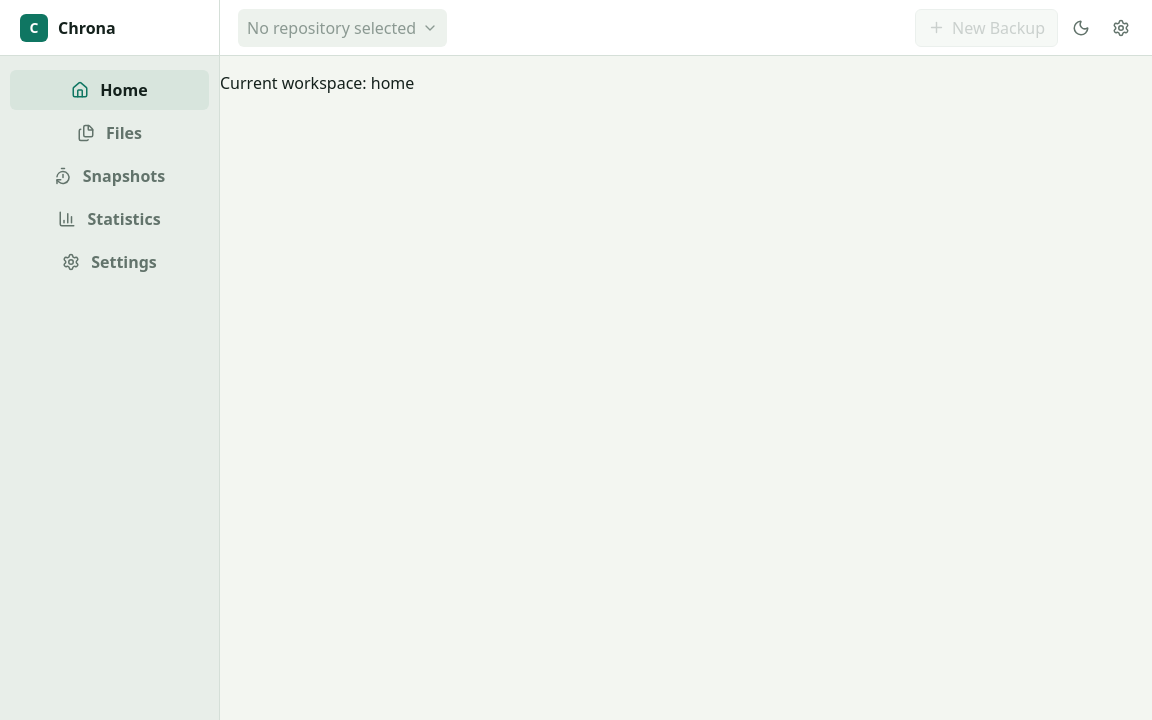
it: AppShell › changes the selected workspace and exposes it to compatibility content
What coordinates should you click on to do the following:
click the button "Files"
I would click on:
 (110, 133)
Its box is [10, 113, 209, 153].
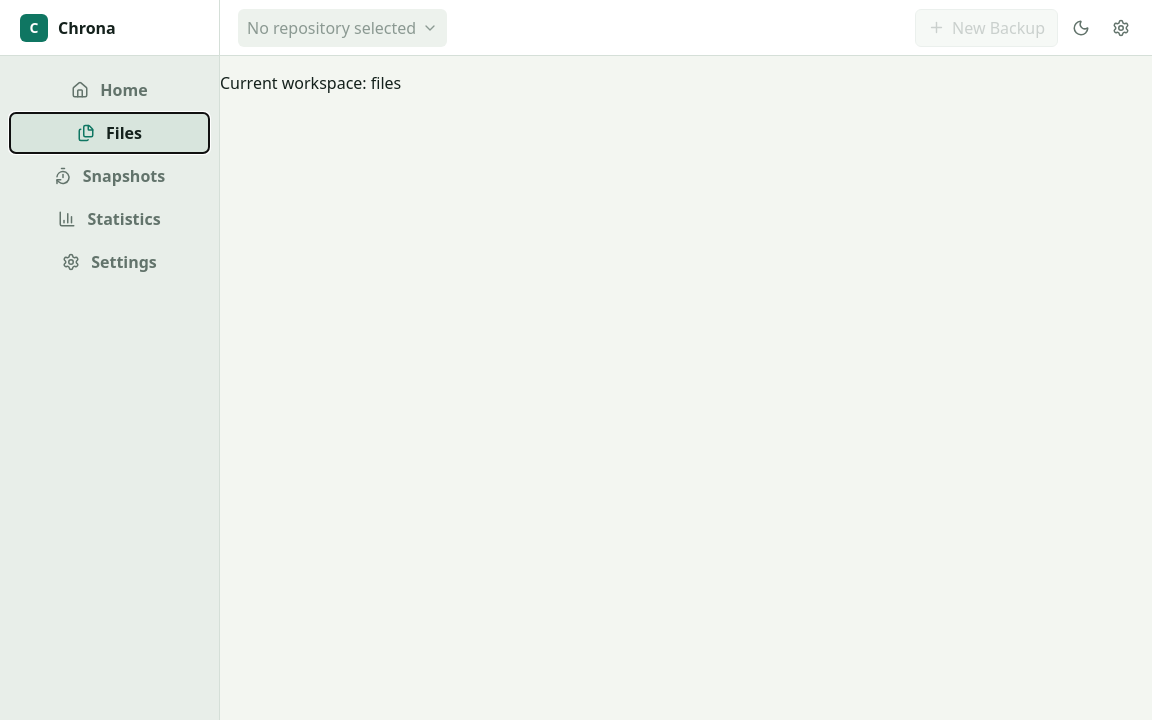
Now the text "Current workspace: files" is shown, box [220, 72, 401, 94]
